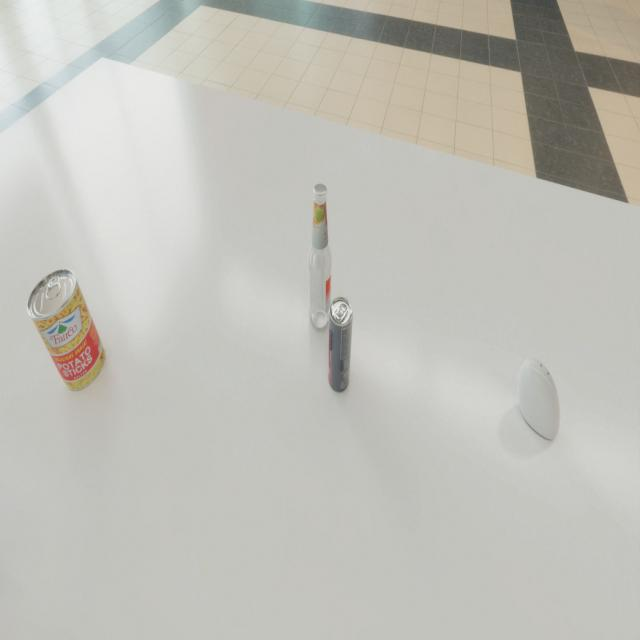Bottle: (308, 184, 332, 332)
Potato_sticks: (27, 269, 105, 391)
Rita_zero_sugar: (328, 297, 353, 393)
Salt: (518, 358, 560, 440)
